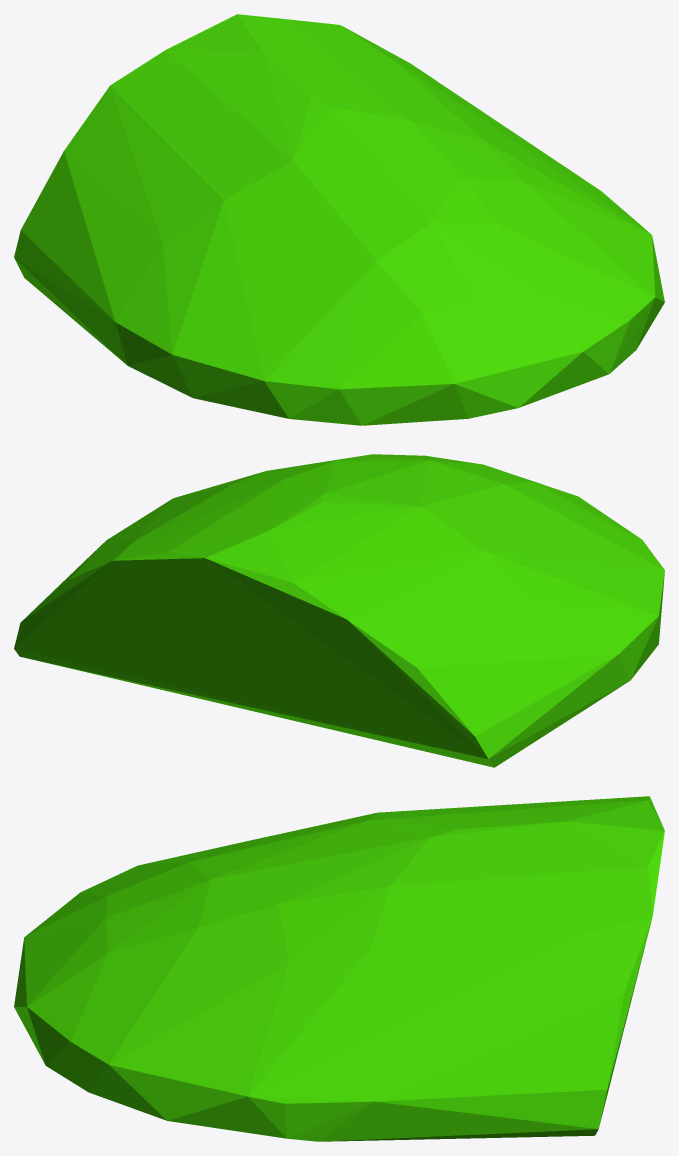
The model's file is arm-L1-mirror_convex_piece_005.obj.
3 renders of one model, top to bottom at view 1: azimuth 30°, elevation 25°; view 2: azimuth 150°, elevation 25°; view 3: azimuth 270°, elevation 25°, orthographic. The views are drawn at different scales.
Bounding box in the file's own units: 0.0741 × 0.0249 × 0.0771.
